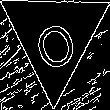O_NW: (27, 5, 82, 70)
